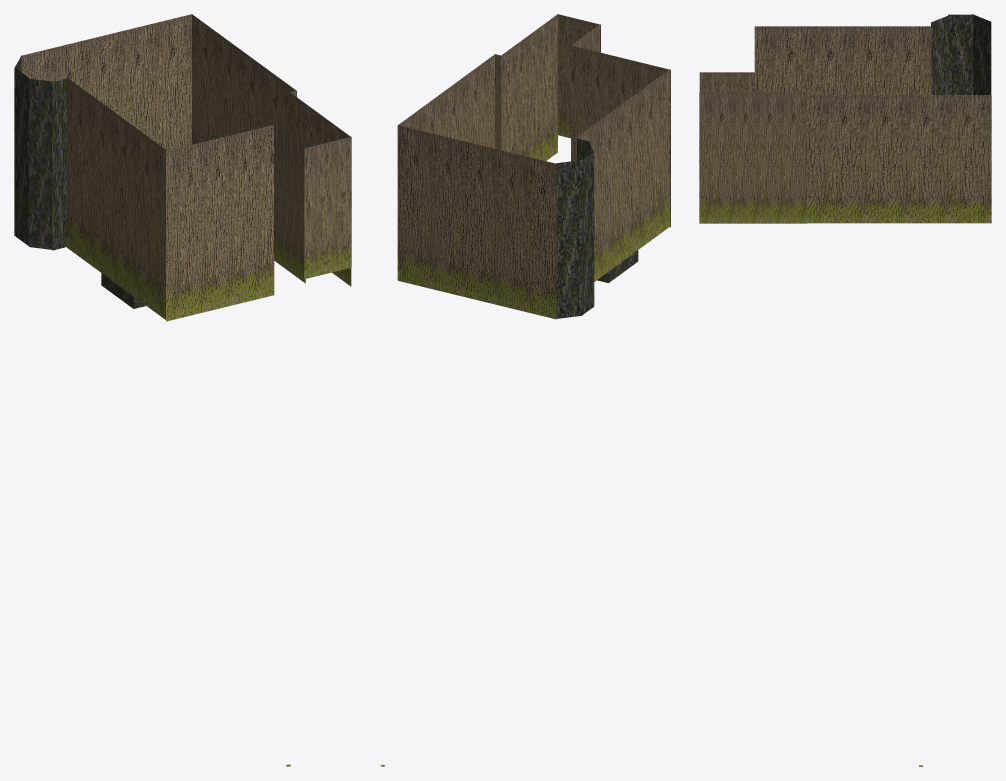
File: wall.obj
3 renders of one model, left to right at view 1: azimuth 30°, elevation 25°; view 2: azimuth 150°, elevation 25°; view 3: azimuth 270°, elevation 25°, orthographic. The views are drawn at different scales.
Parts seen in each view (by area): view 1: Room.012_Room.017; view 2: Room.012_Room.017; view 3: Room.012_Room.017.
Boxes of the visible parts, left/top/right/bottom form: Room.012_Room.017: left=14, top=14, right=351, bottom=766; Room.012_Room.017: left=380, top=14, right=670, bottom=766; Room.012_Room.017: left=699, top=14, right=991, bottom=766.
Size of the model in its own units: 124 by 352 by 144.
